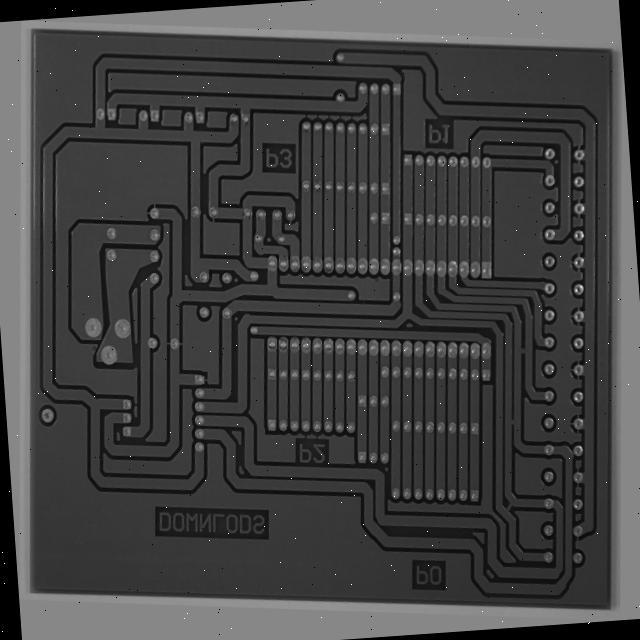short: (523, 485, 549, 517), (522, 396, 544, 426), (525, 317, 550, 342)
